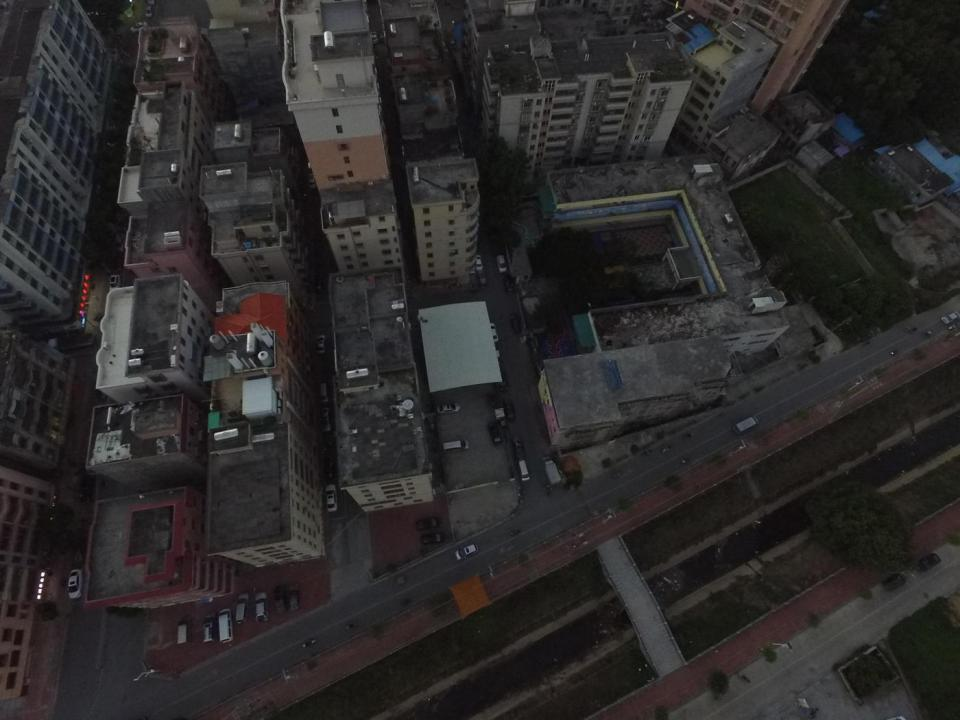car: (66, 568, 84, 600), (254, 590, 269, 622), (453, 542, 478, 561), (414, 515, 442, 531), (486, 420, 503, 446), (285, 582, 300, 611), (234, 593, 247, 625), (325, 483, 338, 512), (421, 531, 448, 544), (274, 583, 286, 612), (508, 314, 523, 336), (502, 274, 516, 297), (486, 322, 499, 346), (512, 433, 523, 460), (436, 402, 462, 413), (476, 271, 489, 292), (321, 407, 332, 431), (497, 253, 508, 276), (503, 397, 515, 418), (472, 253, 485, 272), (941, 312, 960, 324), (316, 334, 327, 354)
truck: (543, 456, 560, 485)
van: (217, 608, 233, 643), (201, 612, 217, 643), (731, 416, 758, 434), (174, 619, 190, 645), (442, 438, 469, 451), (518, 458, 530, 483), (319, 382, 330, 404)
